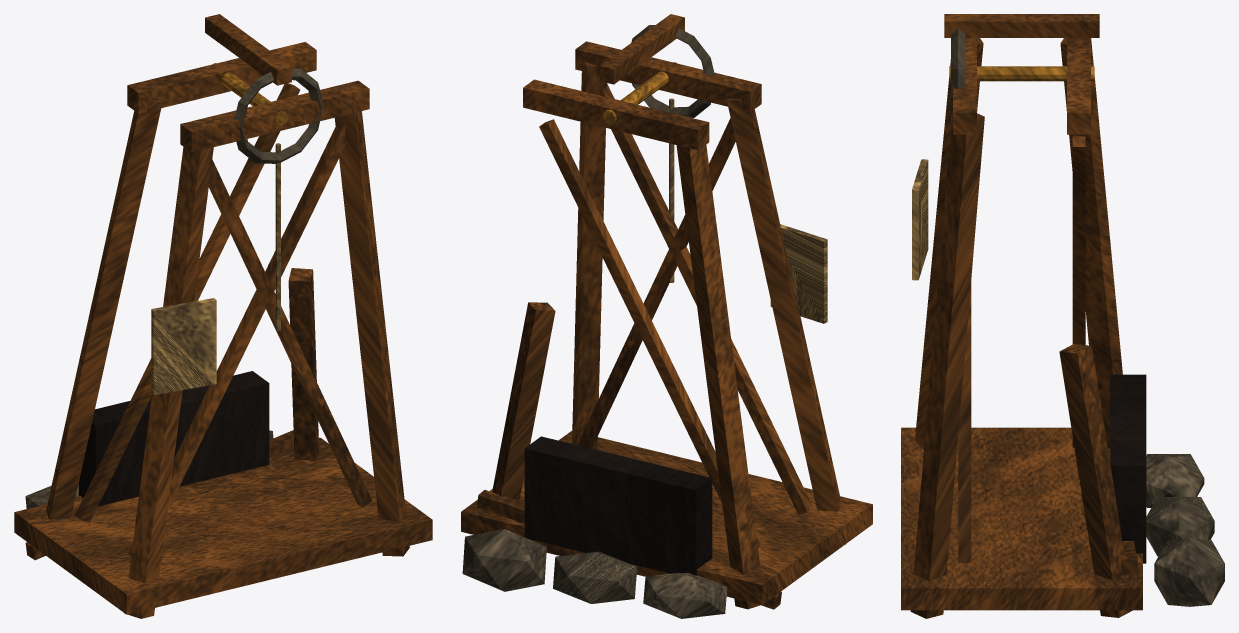
File: mine-mouth-and-ruined-headframe.glb
3 views of the same model, side by side, from view 1: azimuth 30°, elevation 25°; view 2: azimuth 150°, elevation 25°; view 3: azimuth 270°, elevation 25° (orthographic). The views are drawn at different scales.
Visible parts, largest first — view 1: mine-mouth-and-ruined-headframe; view 2: mine-mouth-and-ruined-headframe; view 3: mine-mouth-and-ruined-headframe.
Part boxes in pixels (x1,y1,x2,y2): mine-mouth-and-ruined-headframe: (14, 14, 432, 618); mine-mouth-and-ruined-headframe: (461, 14, 872, 618); mine-mouth-and-ruined-headframe: (901, 14, 1224, 618).
Bounding box in the file's own units: 4.42 × 7.11 × 3.75.
1 material, 1 textured.
